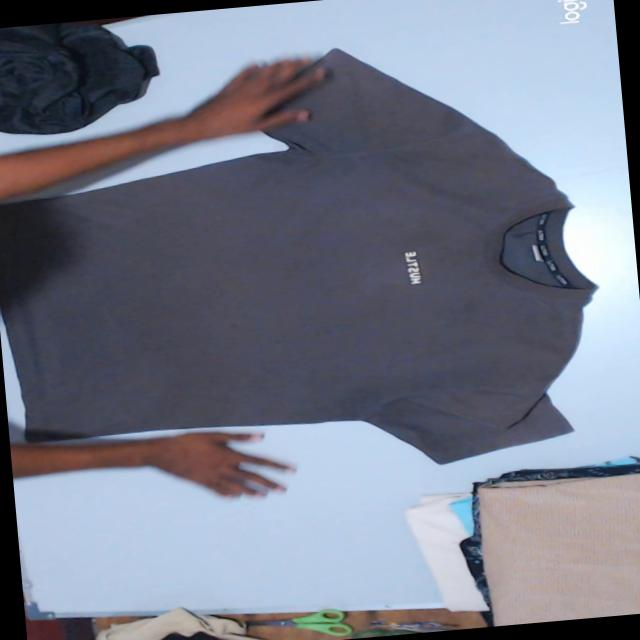new-garment: (0, 49, 591, 461)
